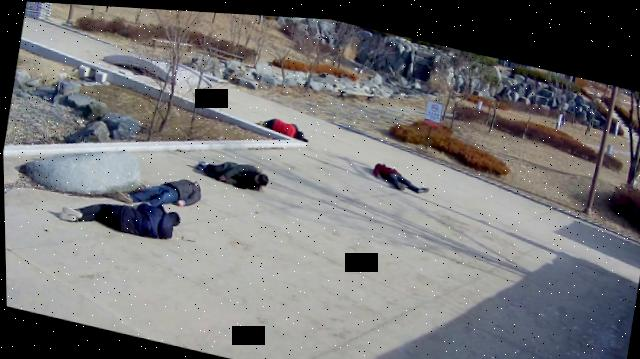fall: (59, 182, 183, 245), (113, 162, 205, 215), (194, 150, 271, 191), (371, 155, 431, 192), (254, 109, 311, 139)
